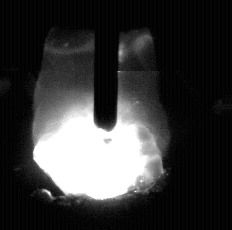arame: (95, 0, 119, 132)
poca: (32, 0, 166, 230)
